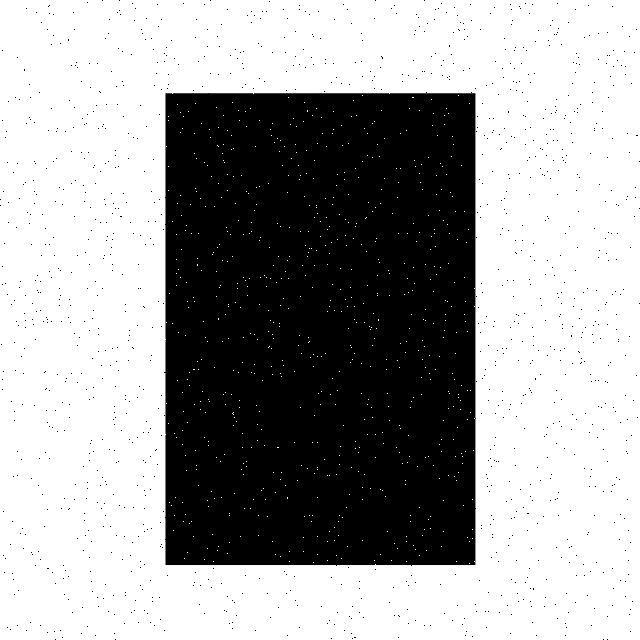Tree_Tomato: (166, 93, 476, 565)
